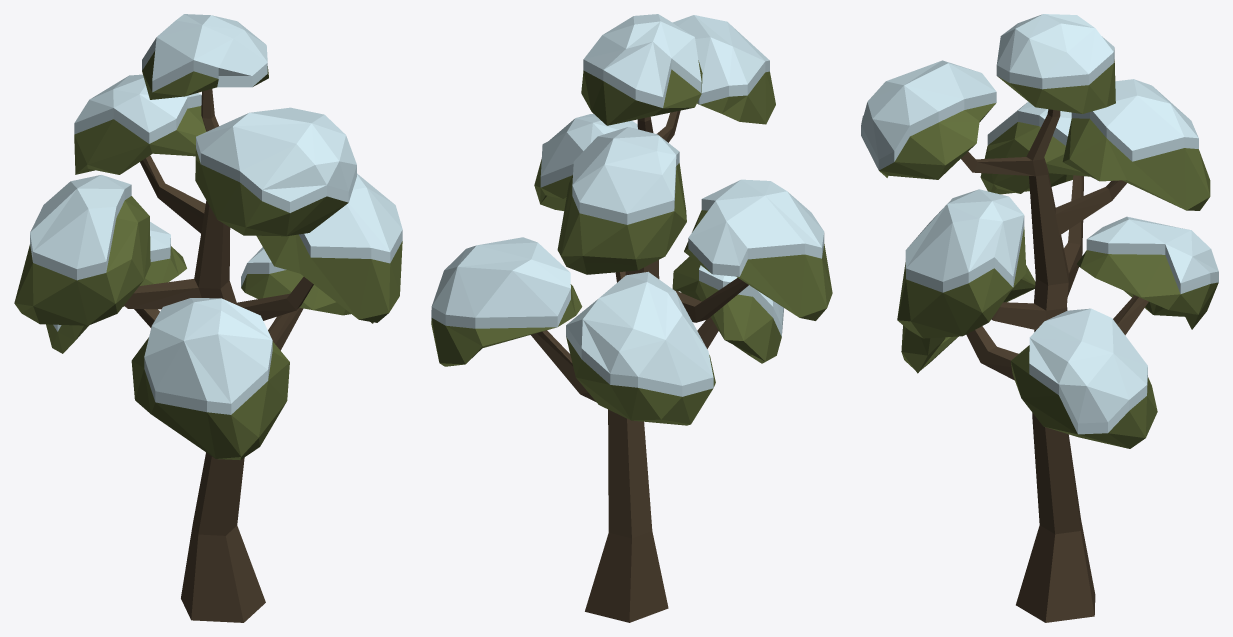
File: SM_Env_Tree_014_Snow.gltf
3 renders of one model, left to right at view 1: azimuth 30°, elevation 25°; view 2: azimuth 150°, elevation 25°; view 3: azimuth 270°, elevation 25°, orthographic. The views are drawn at different scales.
Parts seen in each view (by area): view 1: SM_Env_Tree_014_Snow; view 2: SM_Env_Tree_014_Snow; view 3: SM_Env_Tree_014_Snow.
Boxes of the visible parts, x1,y1,x2,y2 form: SM_Env_Tree_014_Snow: [14, 14, 402, 622]; SM_Env_Tree_014_Snow: [431, 14, 832, 622]; SM_Env_Tree_014_Snow: [861, 14, 1218, 622].
Bounding box in the file's own units: 4.03 × 6.04 × 3.38.
Materials: 1 (1 with a texture image).
